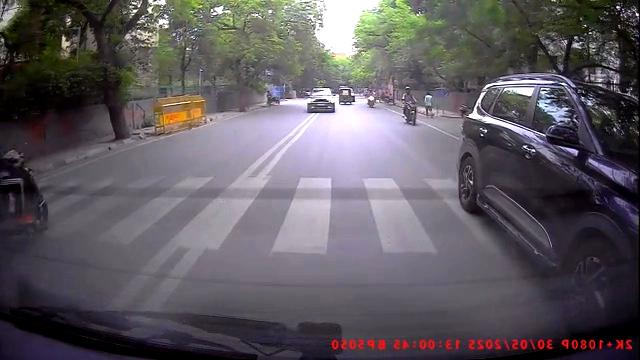motorcycle_with_helmet: (401, 84, 419, 126)
